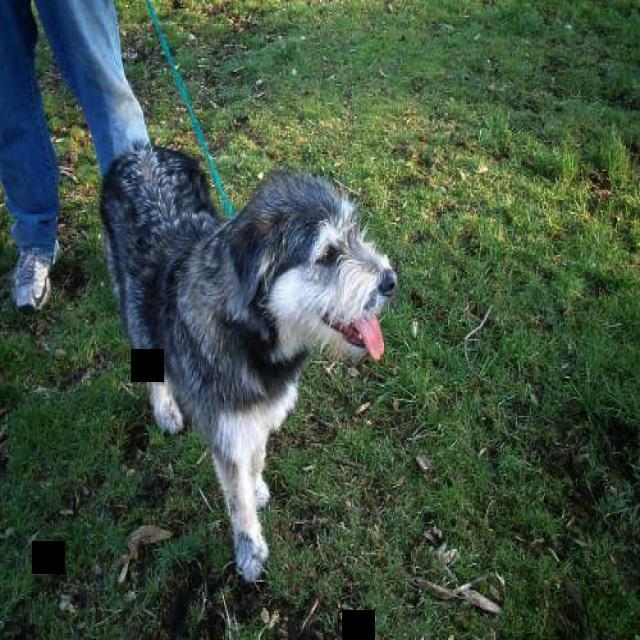adult_dog: (103, 146, 396, 585)
non-dog: (2, 0, 153, 311)
